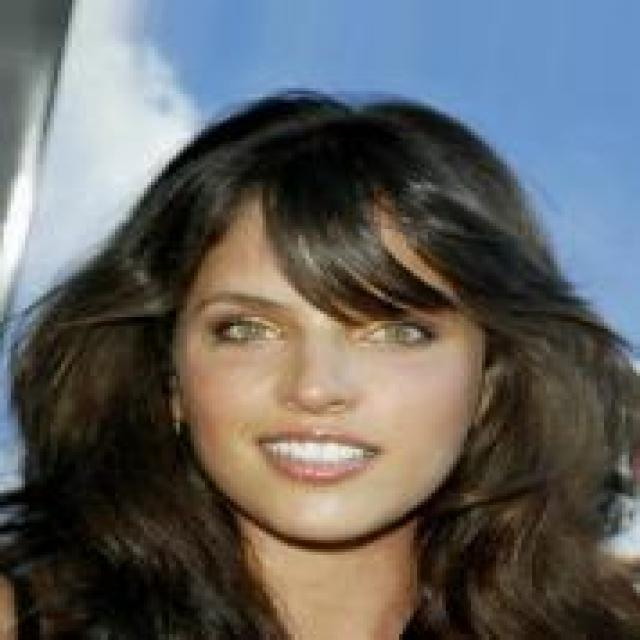nomask: (148, 150, 532, 572)
